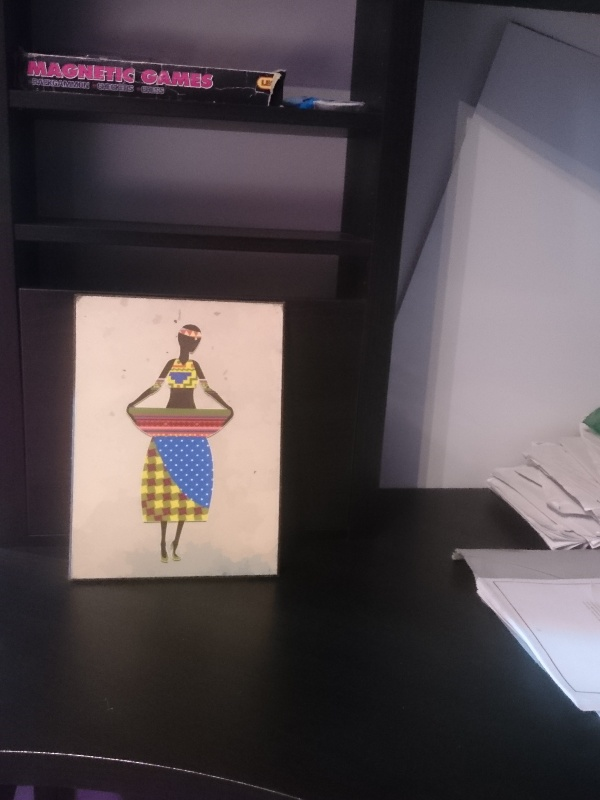my image: (73, 299, 284, 577)
